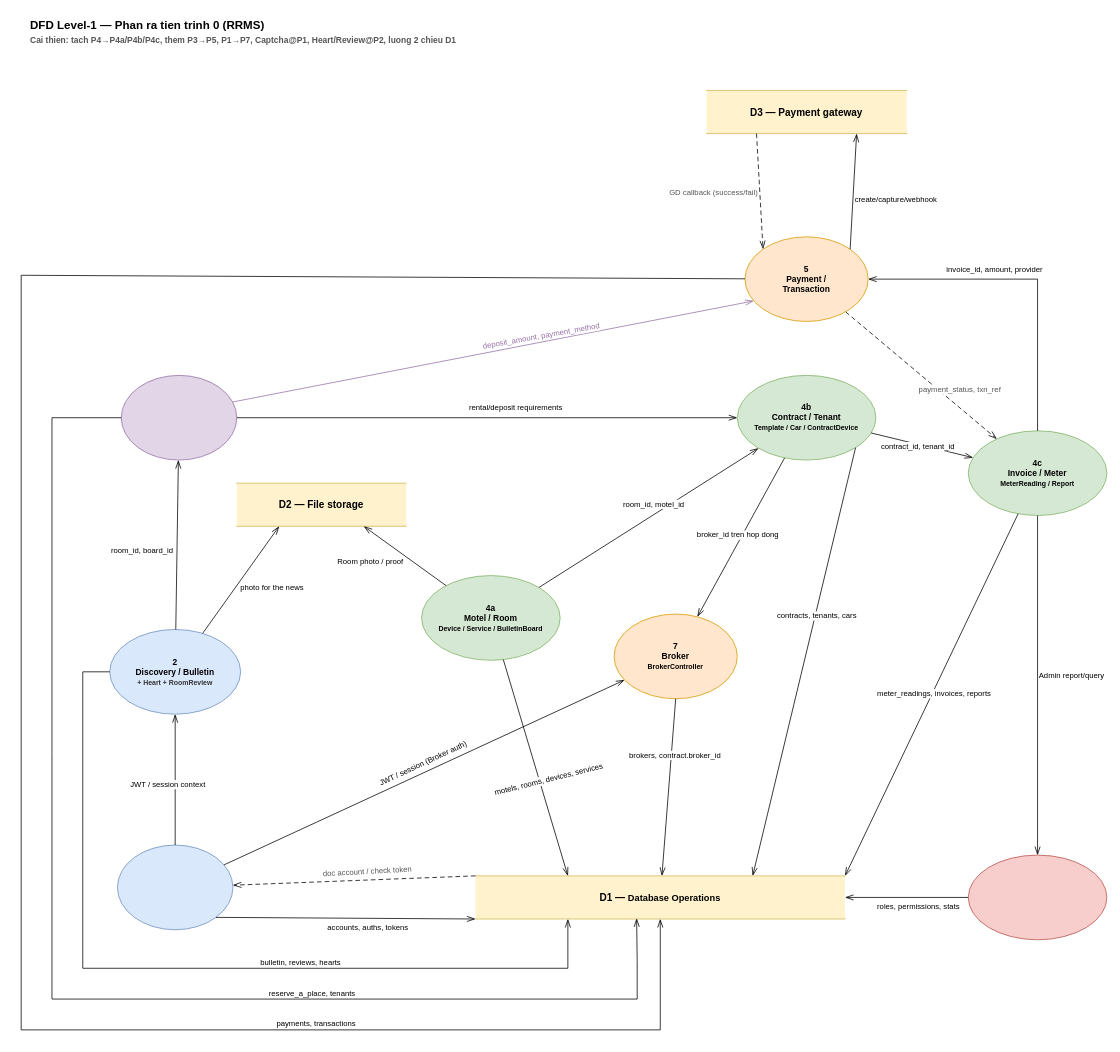
The diagram is 1120 pixels wide and 1052 high, and some of its shapes have lost their labels. The centre of each missing label's shape, as x and y in pixels:
"1 Auth & Profile + Captcha verify" goes at [175,887].
"3 Tenant / Dat coc ReserveAPlace" goes at [179,417].
"6 Admin / RBAC Account/Role/Permission/Stats" goes at [1037,897].
